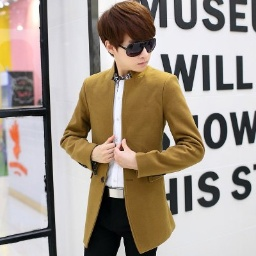face: (98, 1, 153, 74)
